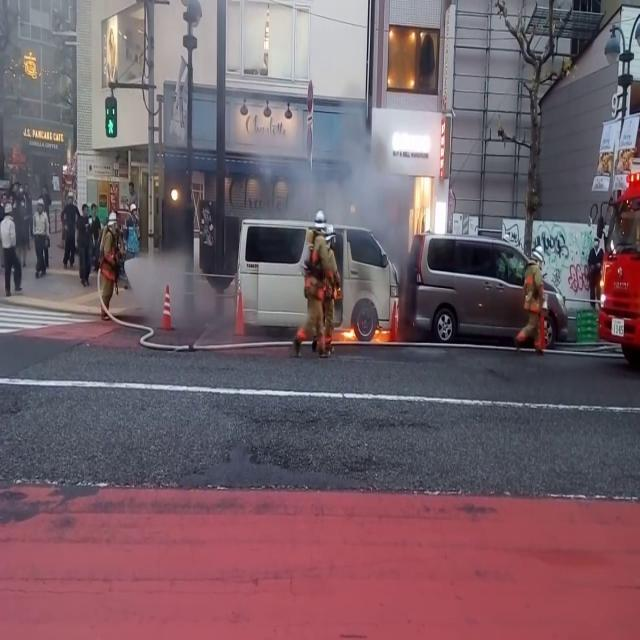Fire: (407, 168, 437, 240), (328, 316, 392, 349)
Smoke: (274, 112, 406, 255), (128, 245, 224, 334)
